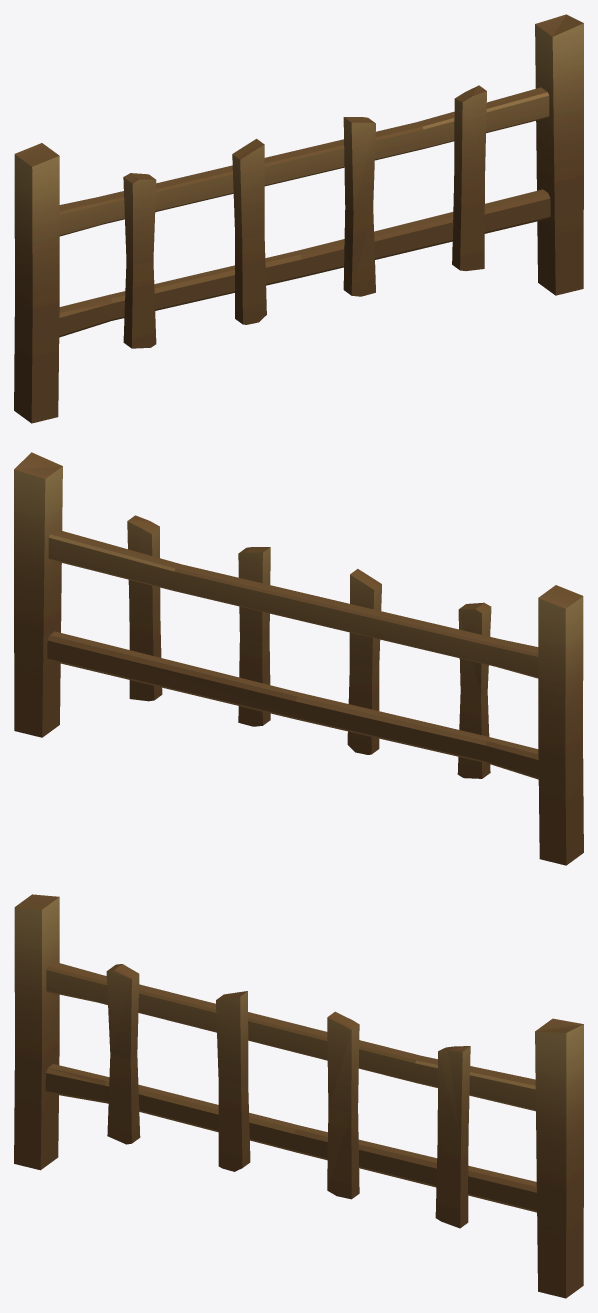
File: pack04_fences_05.fbx
The picture shows the model from 3 angles, top to bottom: view 1: azimuth 30°, elevation 25°; view 2: azimuth 150°, elevation 25°; view 3: azimuth 330°, elevation 25°; orthographic projection.
Parts seen in each view (by area): view 1: Big_Fence_13; view 2: Big_Fence_13; view 3: Big_Fence_13.
Part boxes in pixels (bbox=[...]): Big_Fence_13: bbox=[14, 14, 583, 423]; Big_Fence_13: bbox=[14, 452, 583, 865]; Big_Fence_13: bbox=[14, 894, 583, 1298].
Bounding box in the file's own units: 134 × 61.51 × 9.22.
1 material, 1 textured.
